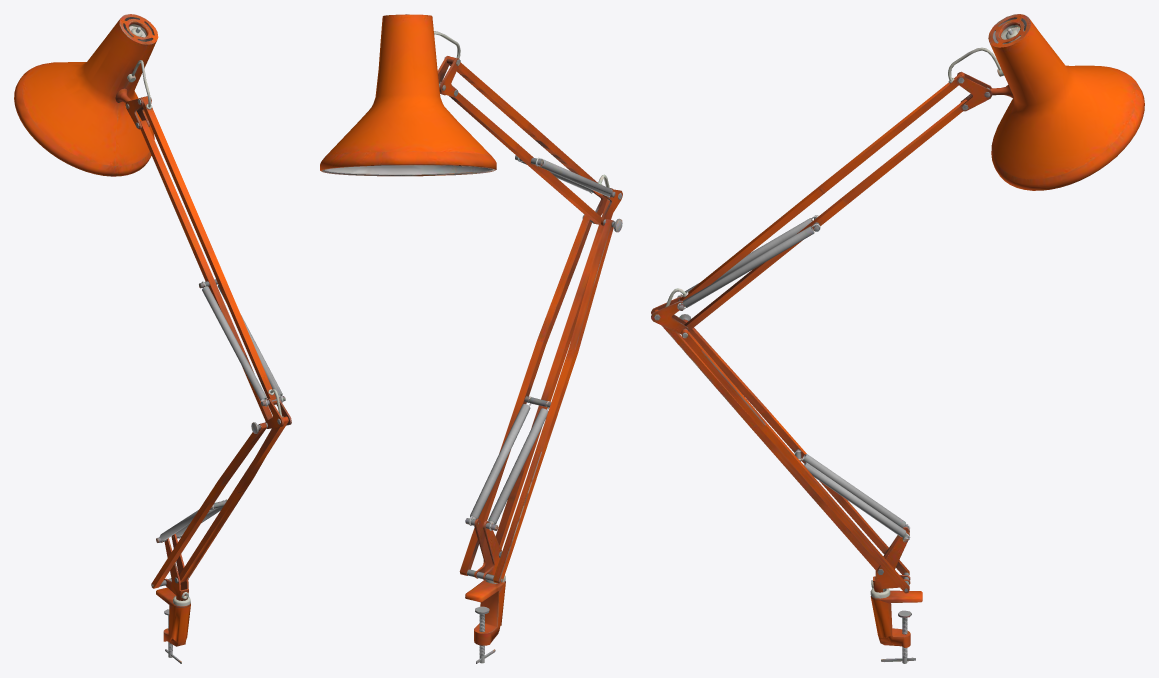
The model's file is deskLamp.glb.
3 renders of one model, left to right at view 1: azimuth 30°, elevation 25°; view 2: azimuth 150°, elevation 25°; view 3: azimuth 270°, elevation 25°, orthographic. The views are drawn at different scales.
Parts seen in each view (by area): view 1: desk_lamp_arm_01; view 2: desk_lamp_arm_01; view 3: desk_lamp_arm_01.
Boxes of the visible parts, x1,y1,x2,y2 form: desk_lamp_arm_01: (14,14,291,663); desk_lamp_arm_01: (320,14,622,663); desk_lamp_arm_01: (651,14,1144,663).
Size of the model in its own units: 0.2017 by 0.8926 by 0.6139.
Materials: 2 (2 with a texture image).
